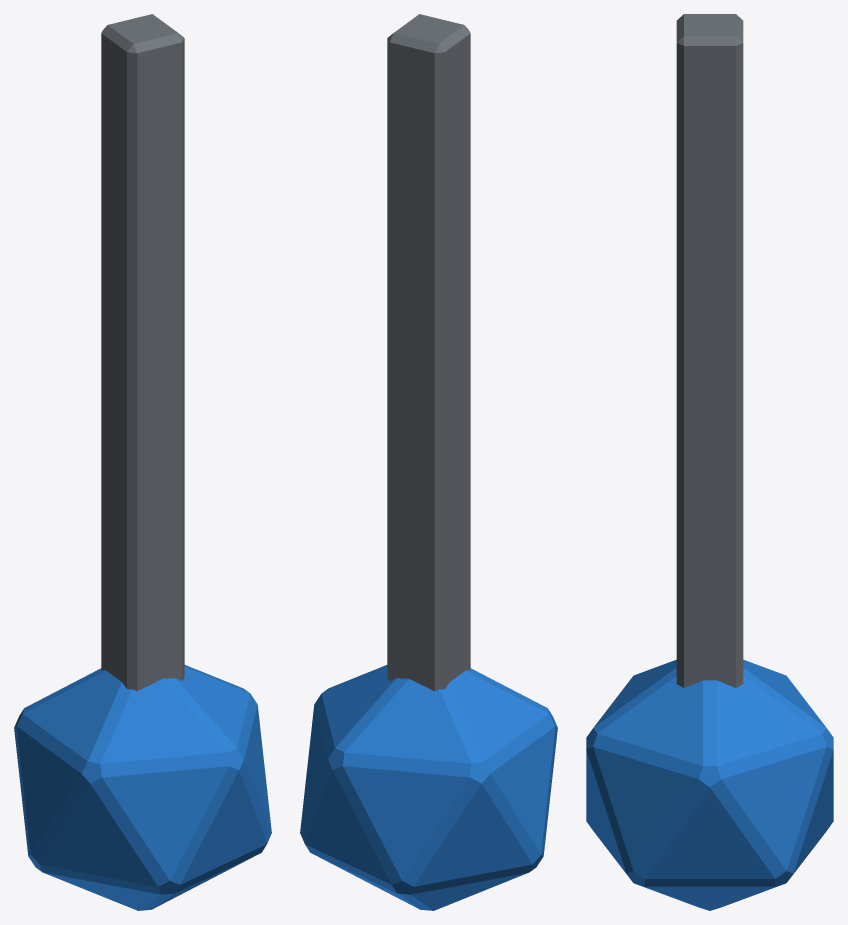
The model's file is pendulum.glb.
3 renders of one model, left to right at view 1: azimuth 30°, elevation 25°; view 2: azimuth 150°, elevation 25°; view 3: azimuth 270°, elevation 25°, orthographic.
Visible parts, largest first — view 1: pendulum; view 2: pendulum; view 3: pendulum.
Boxes of the visible parts, x1,y1,x2,y2 form: pendulum: [14, 14, 271, 910]; pendulum: [300, 14, 557, 910]; pendulum: [586, 14, 833, 910].
Size of the model in its own units: 0.1751 by 0.6539 by 0.1666.
